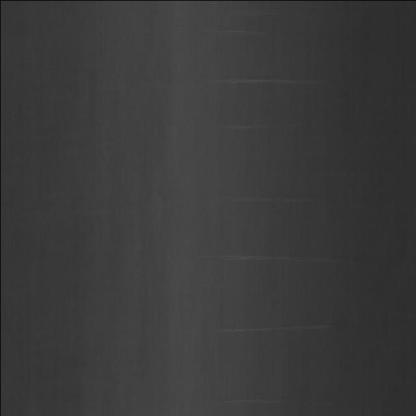waist_folding: (186, 49, 342, 396)
